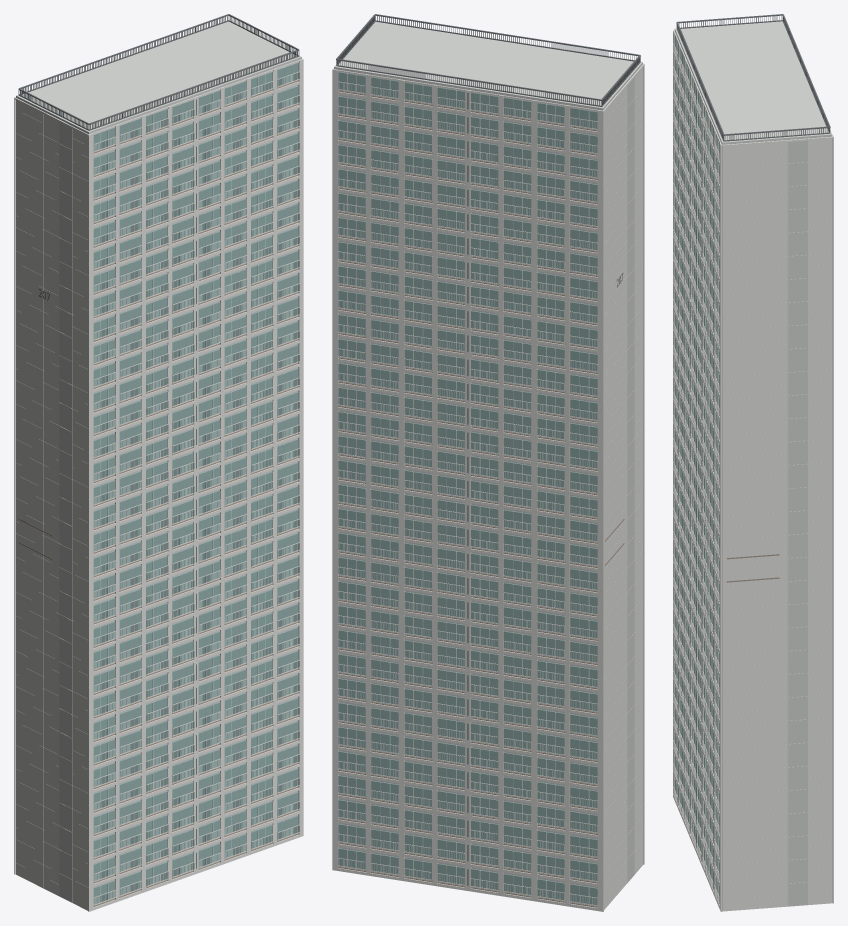
File: bespoke-jamsil-parkrio-207.glb
3 views of the same model, side by side, from view 1: azimuth 30°, elevation 25°; view 2: azimuth 150°, elevation 25°; view 3: azimuth 270°, elevation 25° (orthographic). The views are drawn at different scales.
Parts seen in each view (by area): view 1: Parkrio207_editable_Parkrio207_turquoise_balcony_glazing003, Parkrio207_white_exact_chunk_3, Parkrio207_editable_Parkrio207_light_grey_solid_wall003, Parkrio207_white_exact_chunk_6, Parkrio207_white_exact_chunk_5, Parkrio207_white_exact_chunk_4, Parkrio207_editable_Parkrio207_muted_ground_wall003, Parkrio207_editable_Parkrio207_modest_grey_flat_roof_caps003; view 2: Parkrio207_editable_Parkrio207_turquoise_balcony_glazing003, Parkrio207_white_exact_chunk_3, Parkrio207_editable_Parkrio207_light_grey_solid_wall003, Parkrio207_white_exact_chunk_0, Parkrio207_white_exact_chunk_2, Parkrio207_white_exact_chunk_1, Parkrio207_editable_Parkrio207_muted_ground_wall003, Parkrio207_editable_Parkrio207_modest_grey_flat_roof_caps003, Parkrio207_white_exact_chunk_6, Parkrio207_editable_Parkrio207_narrow_charcoal_service_strip; view 3: Parkrio207_white_exact_chunk_6, Parkrio207_editable_Parkrio207_light_grey_solid_wall003, Parkrio207_editable_Parkrio207_turquoise_balcony_glazing003, Parkrio207_white_exact_chunk_3, Parkrio207_white_exact_chunk_5, Parkrio207_white_exact_chunk_4, Parkrio207_editable_Parkrio207_modest_grey_flat_roof_caps003, Parkrio207_editable_Parkrio207_muted_ground_wall003, Parkrio207_editable_Parkrio207_narrow_charcoal_service_strip.
Boxes of the visible parts, x1,y1,x2,y2 form: Parkrio207_editable_Parkrio207_turquoise_balcony_glazing003: [93, 62, 298, 904]; Parkrio207_white_exact_chunk_3: [14, 97, 169, 910]; Parkrio207_editable_Parkrio207_light_grey_solid_wall003: [16, 21, 301, 905]; Parkrio207_white_exact_chunk_6: [88, 58, 303, 911]; Parkrio207_white_exact_chunk_5: [196, 72, 301, 864]; Parkrio207_white_exact_chunk_4: [144, 102, 222, 883]; Parkrio207_editable_Parkrio207_muted_ground_wall003: [18, 80, 298, 906]; Parkrio207_editable_Parkrio207_modest_grey_flat_roof_caps003: [18, 14, 299, 130]; Parkrio207_editable_Parkrio207_turquoise_balcony_glazing003: [338, 72, 597, 905]; Parkrio207_white_exact_chunk_3: [332, 64, 643, 911]; Parkrio207_editable_Parkrio207_light_grey_solid_wall003: [334, 21, 642, 906]; Parkrio207_white_exact_chunk_0: [335, 73, 434, 885]; Parkrio207_white_exact_chunk_2: [501, 98, 600, 910]; Parkrio207_white_exact_chunk_1: [401, 84, 534, 901]; Parkrio207_editable_Parkrio207_muted_ground_wall003: [338, 90, 624, 907]; Parkrio207_editable_Parkrio207_modest_grey_flat_roof_caps003: [336, 14, 640, 106]; Parkrio207_white_exact_chunk_6: [333, 63, 644, 864]; Parkrio207_editable_Parkrio207_narrow_charcoal_service_strip: [467, 92, 468, 885]; Parkrio207_white_exact_chunk_6: [673, 30, 832, 911]; Parkrio207_editable_Parkrio207_light_grey_solid_wall003: [674, 21, 832, 910]; Parkrio207_editable_Parkrio207_turquoise_balcony_glazing003: [674, 35, 719, 901]; Parkrio207_white_exact_chunk_3: [673, 39, 833, 903]; Parkrio207_white_exact_chunk_5: [696, 95, 720, 908]; Parkrio207_white_exact_chunk_4: [685, 66, 702, 867]; Parkrio207_editable_Parkrio207_modest_grey_flat_roof_caps003: [676, 14, 830, 141]; Parkrio207_editable_Parkrio207_muted_ground_wall003: [677, 57, 779, 903]; Parkrio207_editable_Parkrio207_narrow_charcoal_service_strip: [696, 90, 696, 848].
Bounding box in the file's own units: 31.42 × 92.1 × 17.3.
